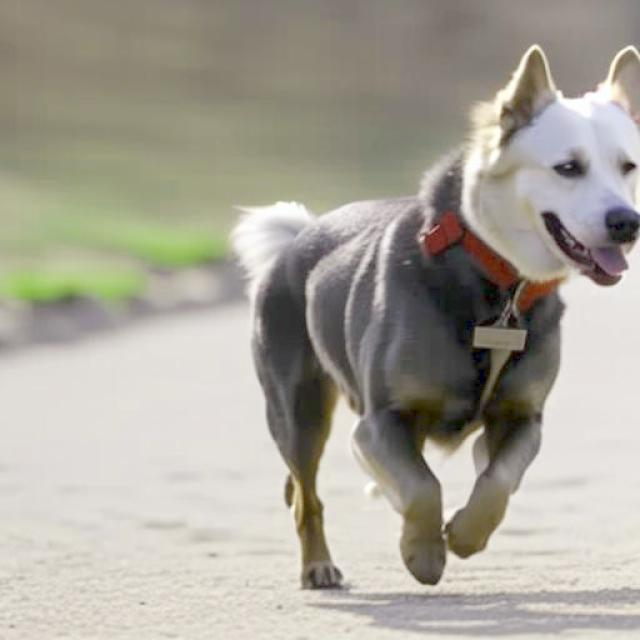Dog: (227, 43, 640, 589)
